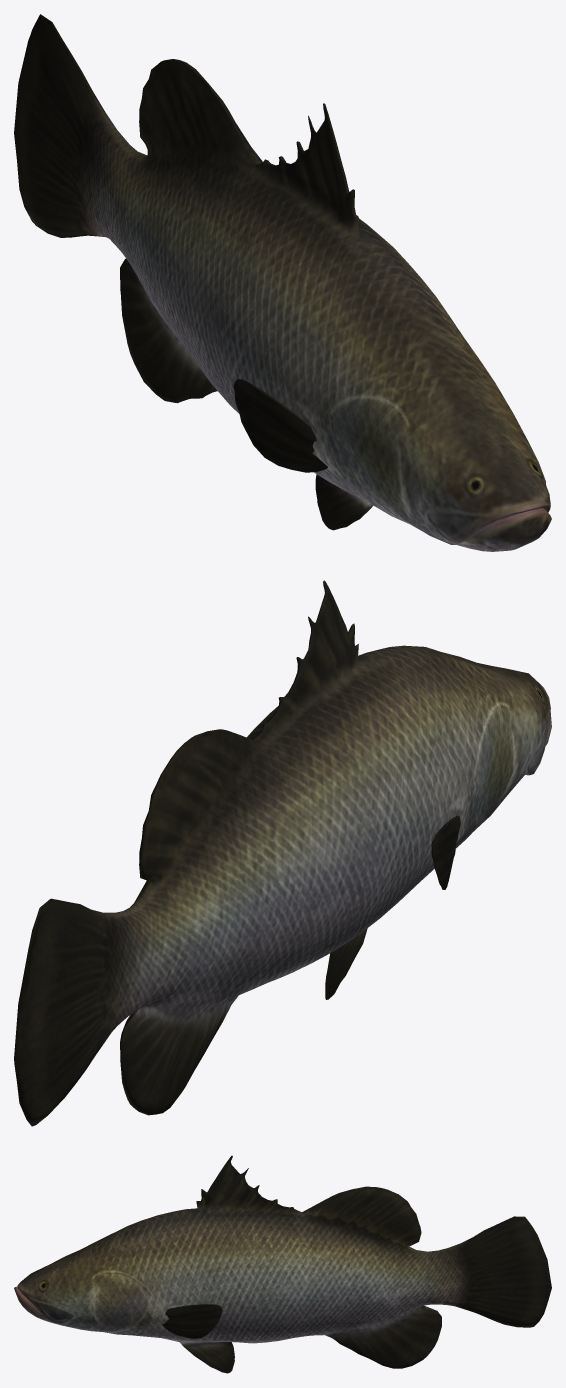
Rendered from barramundi-fish.glb.
3 renders of one model, top to bottom at view 1: azimuth 30°, elevation 25°; view 2: azimuth 150°, elevation 25°; view 3: azimuth 270°, elevation 25°, orthographic. The views are drawn at different scales.
Parts seen in each view (by area): view 1: BarramundiFish; view 2: BarramundiFish; view 3: BarramundiFish.
Part boxes in pixels (x1,y1,x2,y2): BarramundiFish: (14, 14, 551, 551); BarramundiFish: (14, 580, 551, 1126); BarramundiFish: (14, 1155, 551, 1373).
Bounding box in the file's own units: 0.1429 × 0.2875 × 0.6431.
1 material, 1 textured.
